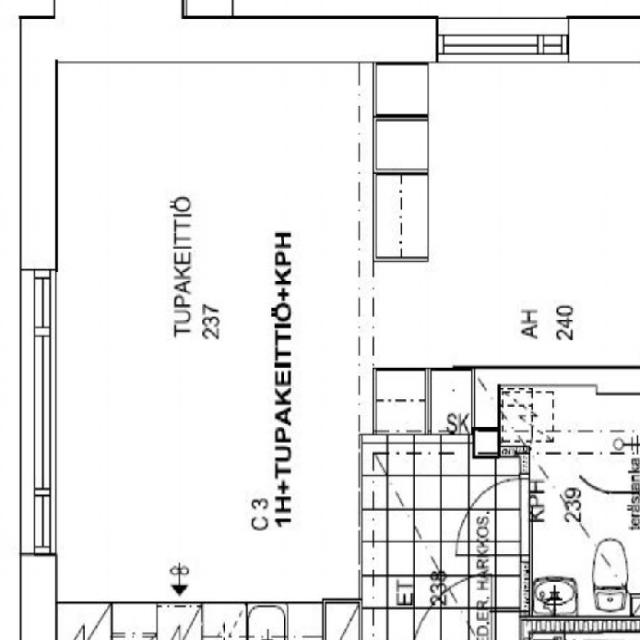door: (409, 568, 490, 640), (456, 478, 530, 554)
